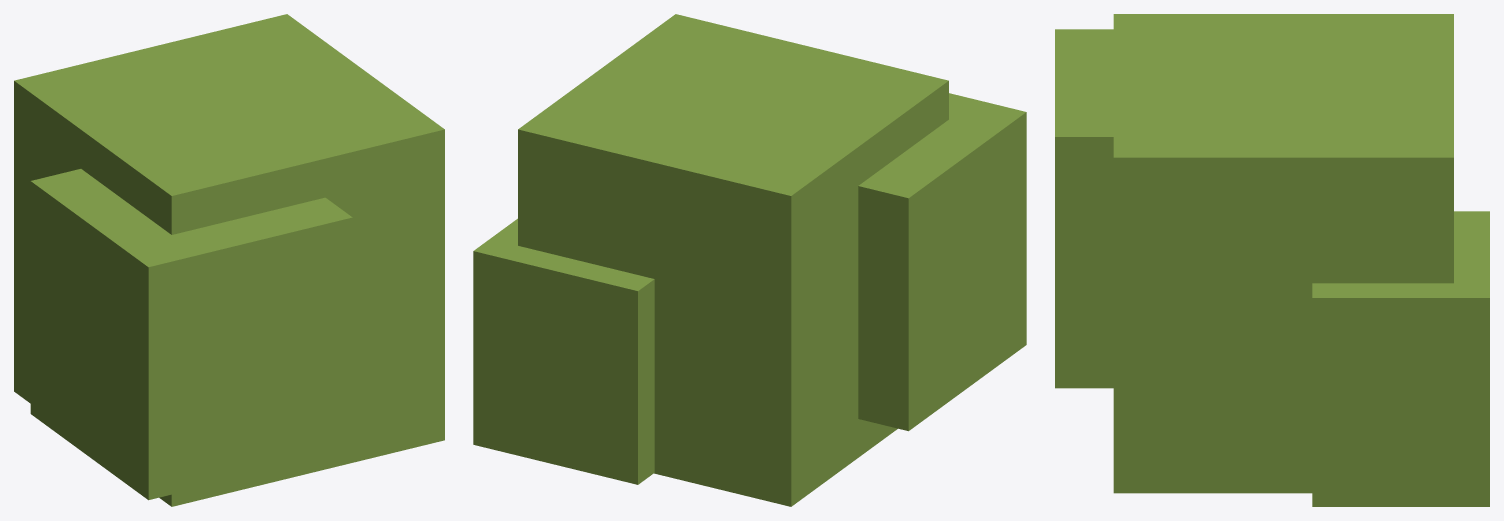
File: SM_Bush_01_A.fbx
The picture shows the model from 3 angles, left to right: view 1: azimuth 30°, elevation 25°; view 2: azimuth 150°, elevation 25°; view 3: azimuth 270°, elevation 25°; orthographic projection. The views are drawn at different scales.
Parts seen in each view (by area): view 1: pCube263; view 2: pCube263; view 3: pCube263.
Boxes of the visible parts, bbox=[...] form: pCube263: bbox=[14, 14, 444, 506]; pCube263: bbox=[473, 14, 1026, 506]; pCube263: bbox=[1055, 14, 1489, 506].
Bounding box in the file's own units: 42.12 × 35.58 × 41.81.
